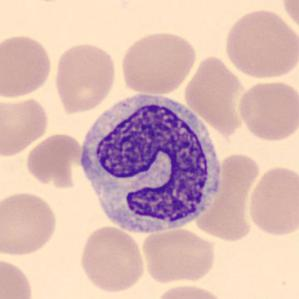Monocyte: (78, 89, 230, 242)
RBC: (222, 5, 297, 81), (187, 54, 250, 142), (202, 154, 262, 244), (118, 29, 198, 96), (51, 40, 119, 115), (77, 224, 147, 294), (140, 227, 218, 285), (235, 78, 298, 144), (245, 163, 298, 239), (1, 189, 60, 257), (0, 32, 54, 100), (23, 131, 86, 189), (0, 93, 50, 158), (0, 256, 36, 299), (152, 282, 227, 299), (278, 0, 299, 35)
